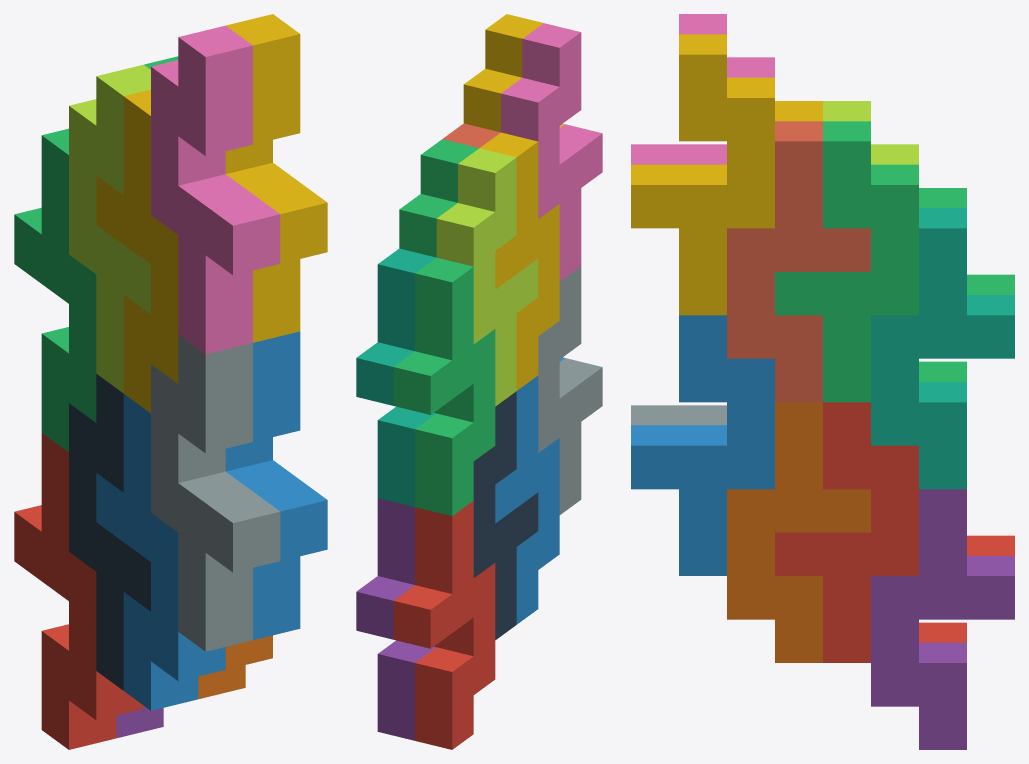
File: tiling.obj
3 views of the same model, side by side, from view 1: azimuth 30°, elevation 25°; view 2: azimuth 150°, elevation 25°; view 3: azimuth 270°, elevation 25° (orthographic). The views are drawn at different scales.
Visible parts, largest first — view 1: copy_2_domain_4, copy_2_domain_2, copy_1_domain_1, copy_2_domain_8, copy_1_domain_2, copy_2_domain_6, copy_2_domain_3, copy_1_domain_3, copy_1_domain_4, copy_2_domain_1, copy_1_domain_6, copy_1_domain_5; view 2: copy_1_domain_3, copy_1_domain_1, copy_2_domain_4, copy_2_domain_3, copy_1_domain_7, copy_1_domain_5, copy_2_domain_2, copy_1_domain_4, copy_1_domain_2, copy_2_domain_1, copy_2_domain_8, copy_2_domain_7 (+1 smaller); view 3: copy_2_domain_8, copy_1_domain_7, copy_2_domain_6, copy_2_domain_7, copy_1_domain_5, copy_1_domain_8, copy_2_domain_5, copy_1_domain_6, copy_2_domain_4, copy_1_domain_3, copy_1_domain_1, copy_2_domain_2 (+2 smaller).
Boxes of the visible parts, x1,y1,x2,y2 form: copy_2_domain_4: [151, 25, 280, 354]; copy_2_domain_2: [151, 335, 280, 651]; copy_1_domain_1: [14, 433, 143, 749]; copy_2_domain_8: [225, 14, 327, 342]; copy_1_domain_2: [96, 394, 225, 710]; copy_2_domain_6: [225, 331, 327, 639]; copy_2_domain_3: [69, 64, 150, 393]; copy_1_domain_3: [14, 128, 96, 452]; copy_1_domain_4: [96, 89, 178, 413]; copy_2_domain_1: [69, 374, 150, 690]; copy_1_domain_6: [198, 635, 272, 699]; copy_1_domain_5: [116, 706, 163, 738]; copy_1_domain_3: [393, 257, 495, 515]; copy_1_domain_1: [393, 501, 495, 749]; copy_2_domain_4: [501, 23, 602, 281]; copy_2_domain_3: [436, 148, 538, 406]; copy_1_domain_7: [356, 248, 436, 506]; copy_1_domain_5: [356, 498, 436, 740]; copy_2_domain_2: [538, 266, 602, 514]; copy_1_domain_4: [480, 132, 559, 390]; copy_1_domain_2: [495, 375, 559, 624]; copy_2_domain_1: [473, 391, 538, 639]; copy_2_domain_8: [463, 14, 564, 132]; copy_2_domain_7: [399, 139, 478, 257]; copy_2_domain_8: [631, 34, 774, 315]; copy_1_domain_7: [871, 208, 1014, 489]; copy_2_domain_6: [631, 315, 774, 575]; copy_2_domain_7: [775, 121, 918, 402]; copy_1_domain_5: [871, 489, 1014, 749]; copy_1_domain_8: [727, 121, 870, 402]; copy_2_domain_5: [775, 402, 918, 662]; copy_1_domain_6: [727, 402, 870, 662]; copy_2_domain_4: [631, 14, 774, 164]; copy_1_domain_3: [919, 188, 1014, 381]; copy_1_domain_1: [919, 535, 1014, 642]; copy_2_domain_2: [631, 405, 726, 425].
Size of the model in its own units: 2 by 16 by 8.
